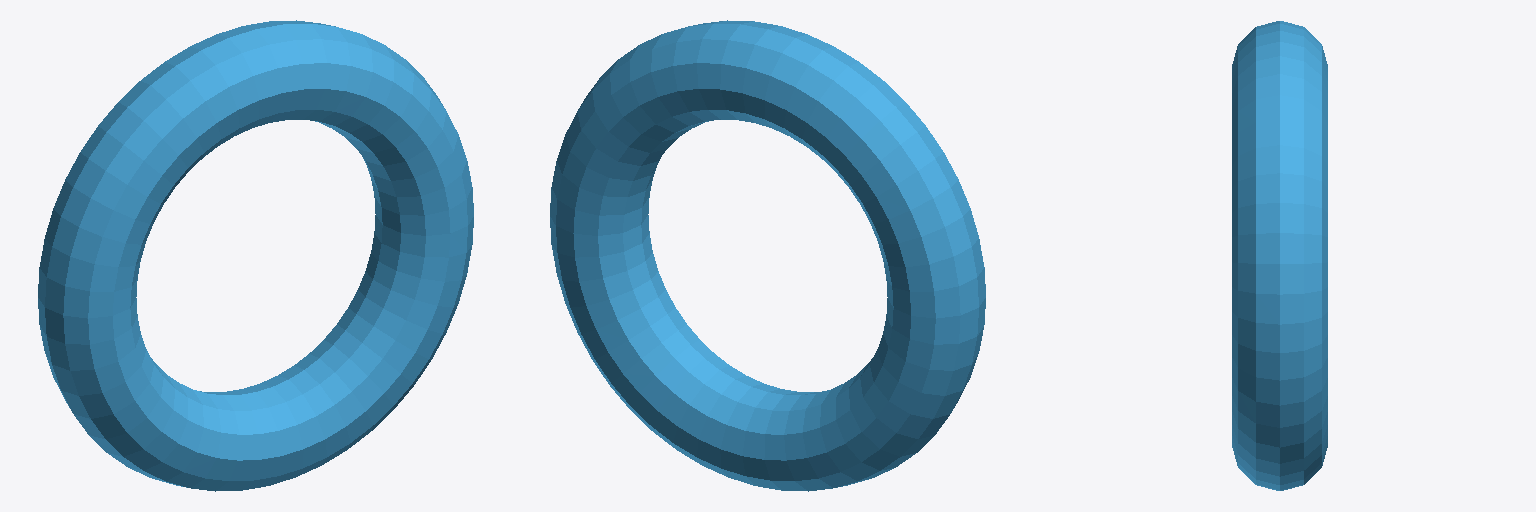
The robot description file, URDF, robot "generated_robot":
<robot name="generated_robot">
    <link name="hanoi_mid_base" />
    <link name="hanoi_mid">
        <visual name="door_frame-6">
            <origin xyz="0 0 0 " />
            <geometry>
                <mesh filename="hanoi_mid.obj" />
            </geometry>
        </visual>
        <collision>
            <origin xyz="0 0 0 " />
            <geometry>
                <mesh filename="hanoi_mid_collision.obj" />
            </geometry>
        </collision>
    </link>    
    <joint name="joint_0" type="fixed">
        <origin xyz="0 0 0" />
        <axis xyz="0 -1 0" />
        <child link="hanoi_mid_base" />
        <parent link="hanoi_mid" />
    </joint>
</robot>

--- Facts derived from the render (not from the file) ---
The picture shows the robot from 3 angles, left to right: view 1: azimuth 30°, elevation 25°; view 2: azimuth 150°, elevation 25°; view 3: azimuth 270°, elevation 25°; orthographic projection.
Model generated_robot with 2 links and 1 joints (1 fixed), rooted at hanoi_mid, posed all joints at 0.
Visible links, largest first — view 1: hanoi_mid; view 2: hanoi_mid; view 3: hanoi_mid.
Link boxes in pixels (x1=…): hanoi_mid: x1=38, y1=20, x2=473, y2=491; hanoi_mid: x1=550, y1=20, x2=985, y2=491; hanoi_mid: x1=1232, y1=21, x2=1327, y2=490.
Bounding box of the posed robot: 1.08 × 0.2274 × 1.11 m (x, y, z).
1 mesh visuals loaded from 1 distinct referenced files (1 OBJ).